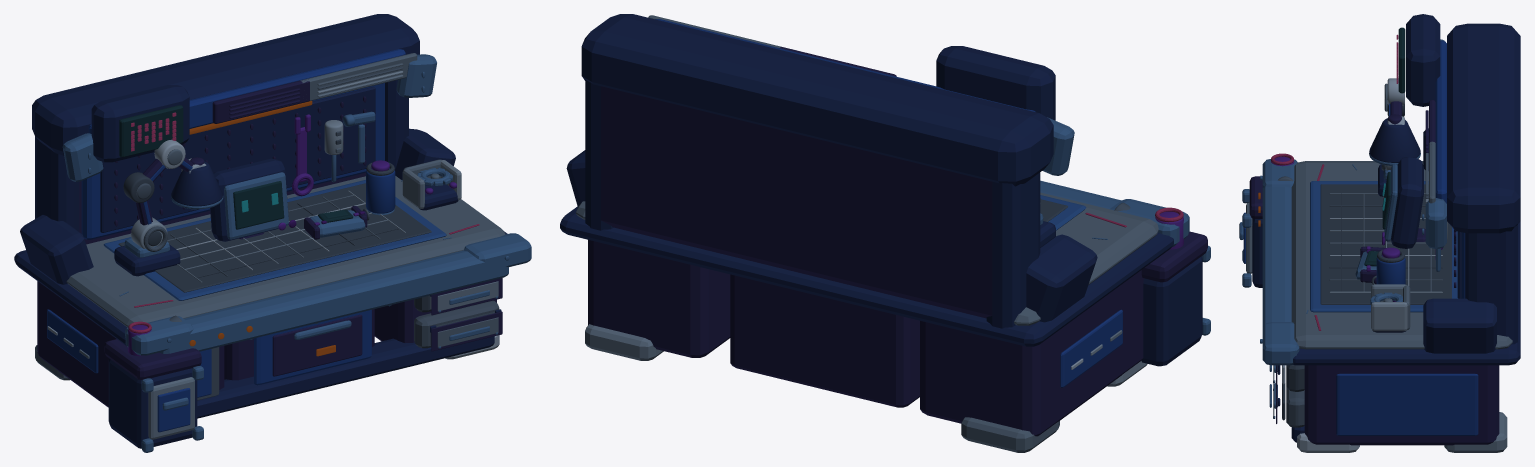
Rendered from prp_base_weapon_workshop_visual_top3d_v005.glb.
3 renders of one model, left to right at view 1: azimuth 30°, elevation 25°; view 2: azimuth 150°, elevation 25°; view 3: azimuth 270°, elevation 25°, orthographic. The views are drawn at different scales.
Visible parts, largest first — view 1: 枪械工坊_主体_金属哑光反光, 枪械工坊_UI灯光_柔和自发光; view 2: 枪械工坊_主体_金属哑光反光; view 3: 枪械工坊_主体_金属哑光反光, 枪械工坊_UI灯光_柔和自发光.
Boxes of the visible parts, x1,y1,x2,y2 form: 枪械工坊_主体_金属哑光反光: [14, 14, 531, 452]; 枪械工坊_UI灯光_柔和自发光: [131, 101, 347, 356]; 枪械工坊_主体_金属哑光反光: [560, 14, 1210, 452]; 枪械工坊_主体_金属哑光反光: [1239, 14, 1520, 452]; 枪械工坊_UI灯光_柔和自发光: [1258, 34, 1398, 261].
Bounding box in the file's own units: 4.98 × 3.28 × 3.
4 materials, 4 textured.
